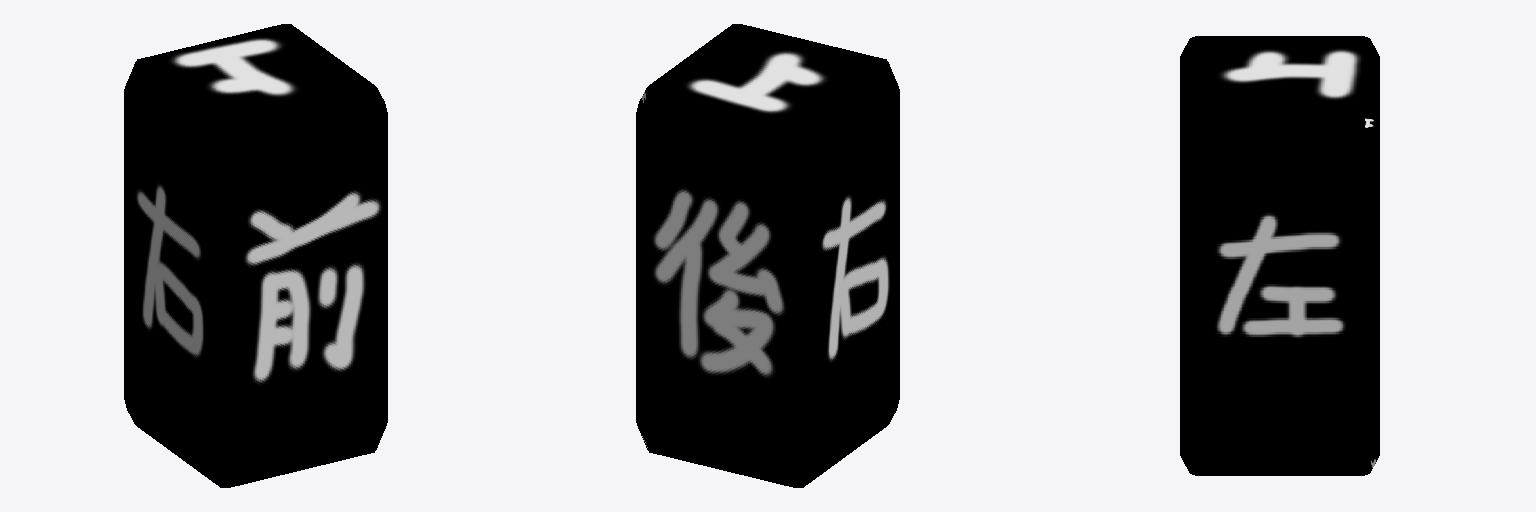
3 views of the same model, side by side, from view 1: azimuth 30°, elevation 25°; view 2: azimuth 150°, elevation 25°; view 3: azimuth 270°, elevation 25° (orthographic).
Parts seen in each view (by area): view 1: Cube; view 2: Cube; view 3: Cube.
Part boxes in pixels (x1,y1,x2,y2): Cube: (124, 24, 387, 487); Cube: (636, 24, 899, 487); Cube: (1180, 36, 1379, 475).
Size of the model in its own units: 2 by 4 by 2.
1 materials, 1 textured.